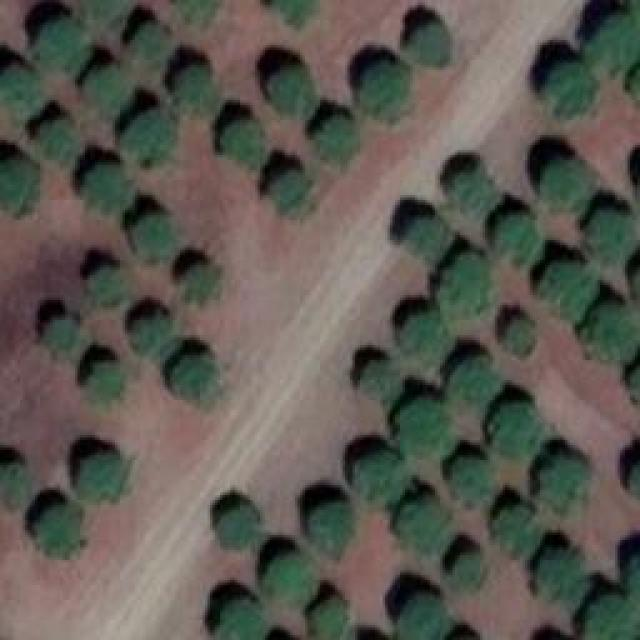Tree: (577, 302, 640, 369), (490, 400, 548, 460), (395, 395, 450, 458), (443, 255, 493, 320), (392, 498, 450, 553), (360, 60, 410, 123), (532, 158, 590, 211), (123, 108, 178, 163), (543, 63, 596, 118), (540, 547, 590, 605), (305, 497, 355, 555), (38, 20, 88, 75), (583, 208, 633, 263), (543, 258, 588, 318), (403, 20, 456, 70), (83, 70, 136, 118), (492, 210, 540, 263), (535, 455, 583, 508), (215, 118, 265, 168), (448, 358, 498, 408), (590, 10, 633, 68), (310, 118, 358, 168), (175, 357, 225, 405), (260, 552, 310, 600), (82, 450, 130, 500), (355, 452, 403, 500), (37, 505, 85, 553), (445, 168, 490, 218), (405, 315, 450, 365), (400, 592, 445, 640), (495, 505, 538, 555), (0, 65, 40, 118), (0, 155, 35, 213), (265, 65, 310, 110), (448, 455, 493, 500), (585, 597, 632, 640), (180, 258, 223, 303), (270, 173, 313, 216), (88, 168, 131, 211), (220, 600, 265, 640), (173, 64, 216, 105), (40, 118, 80, 161), (405, 213, 443, 258), (137, 215, 175, 258), (42, 315, 80, 358), (83, 360, 123, 400), (128, 315, 168, 355), (305, 600, 345, 640), (130, 25, 170, 63), (83, 267, 123, 305), (447, 550, 485, 590), (220, 505, 258, 543), (275, 0, 323, 28), (82, 0, 130, 28), (363, 360, 398, 398), (175, 0, 220, 25), (0, 462, 28, 500), (503, 323, 533, 356), (625, 555, 640, 608)
